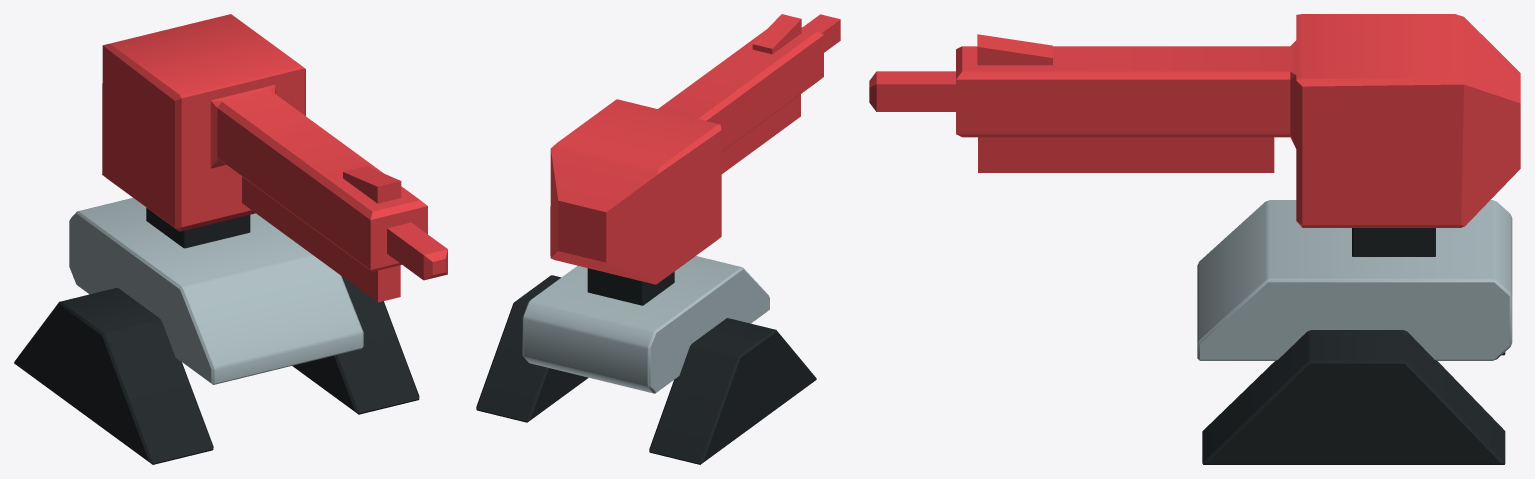
File: torreta cañon.fbx
3 renders of one model, left to right at view 1: azimuth 30°, elevation 25°; view 2: azimuth 150°, elevation 25°; view 3: azimuth 270°, elevation 25°, orthographic. The views are drawn at different scales.
Parts seen in each view (by area): view 1: base, caño_fuerte; view 2: base, caño_fuerte; view 3: caño_fuerte, base.
Part boxes in pixels (left/top/right/bottom): base: left=14, top=198, right=419, bottom=464; caño_fuerte: left=102, top=14, right=447, bottom=302; base: left=476, top=256, right=816, bottom=464; caño_fuerte: left=550, top=14, right=840, bottom=284; caño_fuerte: left=869, top=14, right=1520, bottom=227; base: left=1197, top=200, right=1512, bottom=464.
Size of the model in its own units: 355 by 407 by 680.
